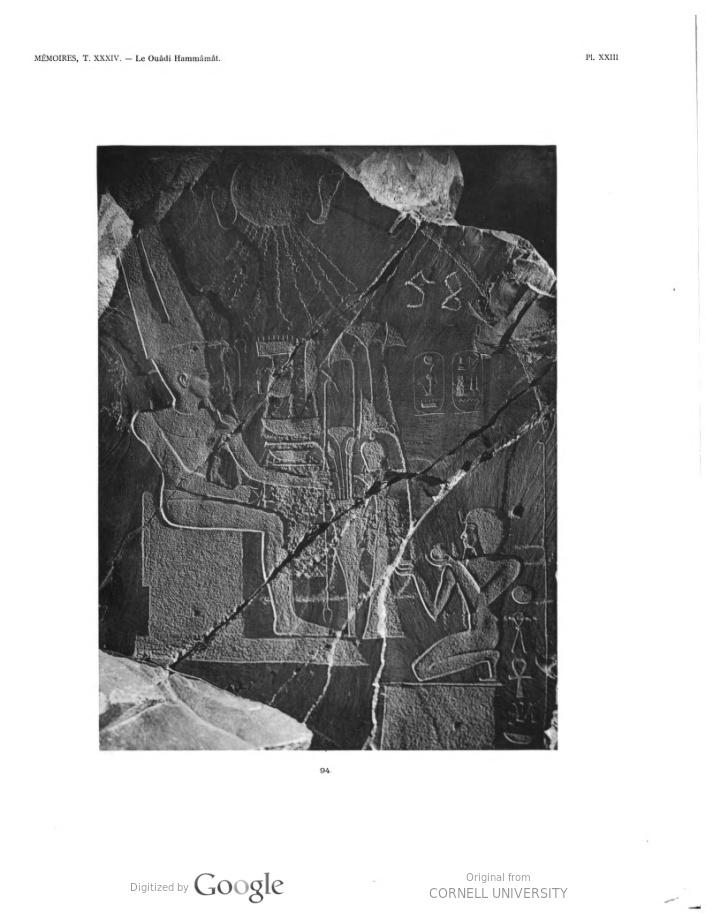circle: (449, 343, 488, 431), (410, 337, 449, 422)
